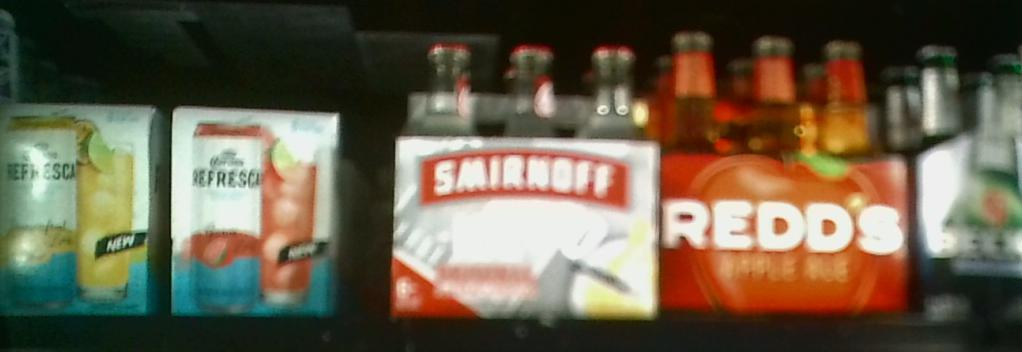bottle: (394, 39, 662, 320), (664, 32, 916, 329), (169, 109, 346, 318), (1, 106, 167, 319), (923, 35, 1022, 325)
